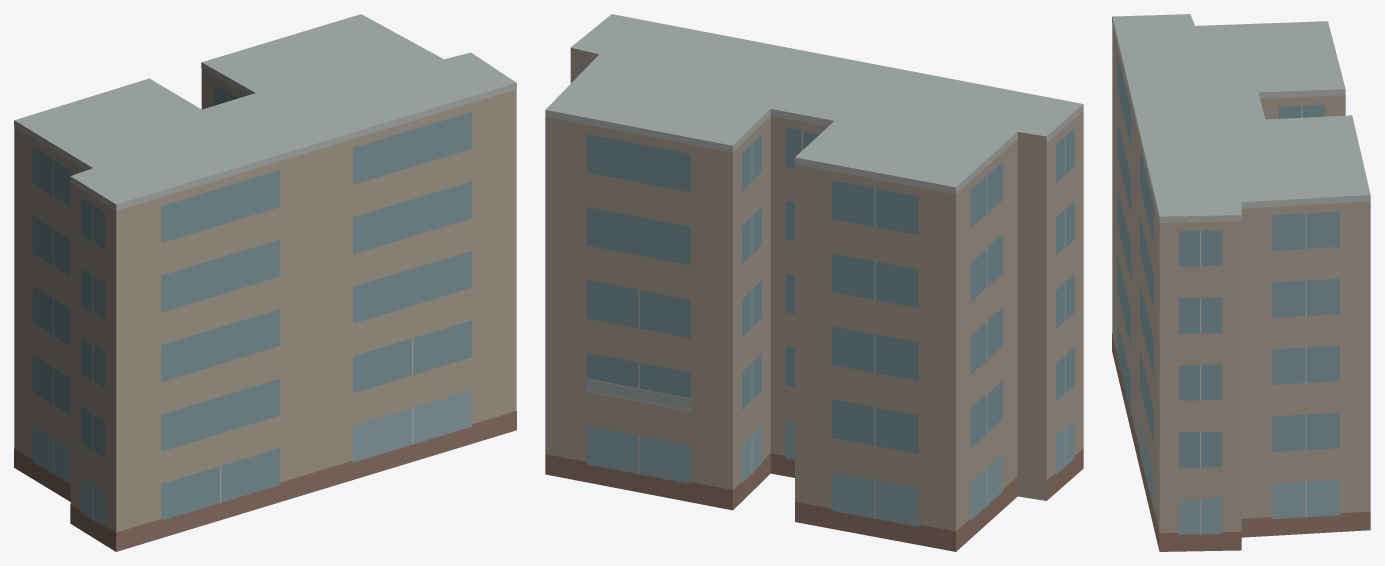
Rendered from survey-upis-32750145.glb.
3 views of the same model, side by side, from view 1: azimuth 30°, elevation 25°; view 2: azimuth 150°, elevation 25°; view 3: azimuth 270°, elevation 25° (orthographic). The views are drawn at different scales.
Parts seen in each view (by area): view 1: survey-upis-32750145.tmp; view 2: survey-upis-32750145.tmp; view 3: survey-upis-32750145.tmp.
Part boxes in pixels (x1=…): survey-upis-32750145.tmp: x1=14, y1=14, x2=516, y2=551; survey-upis-32750145.tmp: x1=545, y1=14, x2=1083, y2=551; survey-upis-32750145.tmp: x1=1112, y1=14, x2=1370, y2=551.
Size of the model in its own units: 16.86 by 13 by 9.09.
